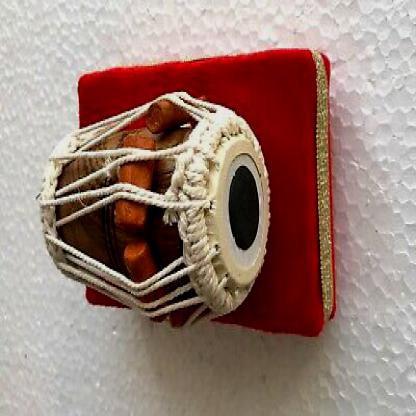Mridangam: (35, 90, 284, 333)
